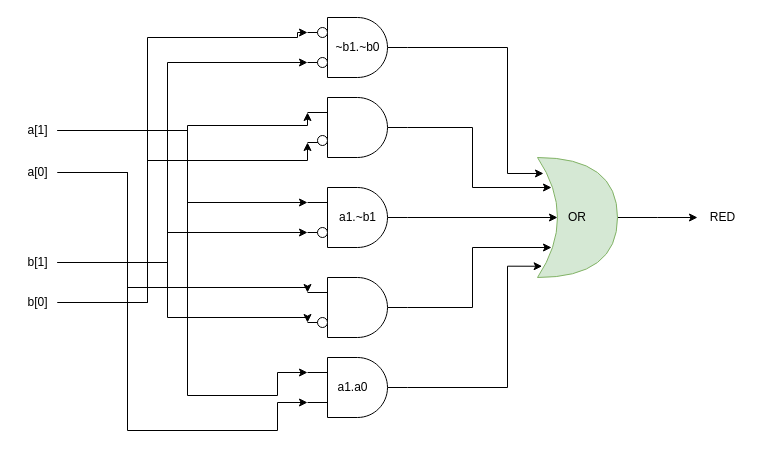
The diagram is 764 pixels wide and 456 high, and some of its shapes have lost their labels. Each missing label, with the centre of its shape:
"a0.~b1" belongs at (x=357, y=307).
"a1.~b0" belongs at (x=357, y=127).
